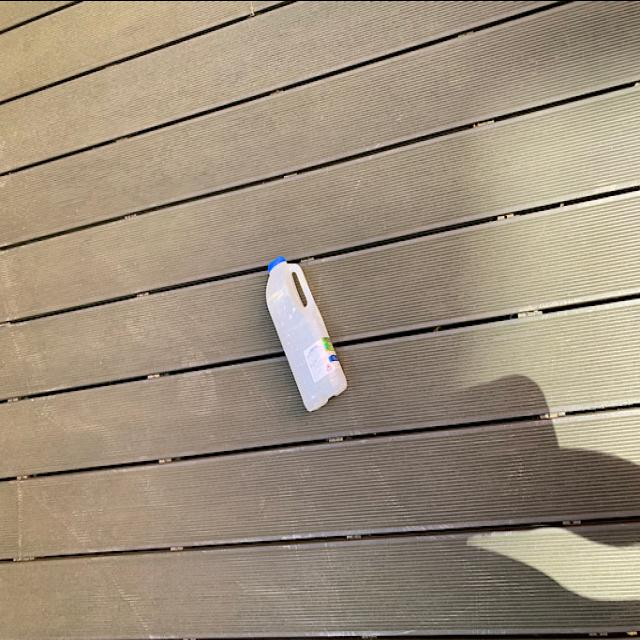HDPEM: (264, 252, 352, 410)
